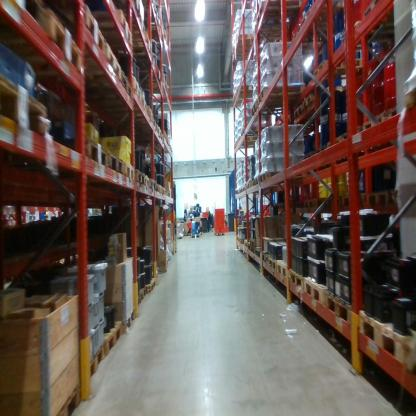pallet: (4, 67, 65, 145), (34, 8, 83, 72), (53, 2, 106, 53), (63, 39, 123, 83), (359, 305, 402, 366), (96, 10, 137, 55), (77, 71, 133, 100), (313, 58, 373, 82), (324, 294, 370, 325), (250, 18, 298, 46), (257, 82, 308, 107), (254, 0, 302, 26), (49, 389, 91, 416), (82, 135, 111, 174), (361, 2, 398, 32), (101, 316, 126, 358), (388, 91, 415, 124), (298, 4, 338, 26), (86, 347, 107, 382), (363, 108, 388, 137), (294, 26, 329, 46), (304, 278, 331, 303), (251, 98, 299, 112), (340, 186, 365, 210), (257, 167, 288, 185), (121, 307, 138, 338), (109, 145, 126, 175), (362, 189, 388, 208), (341, 123, 363, 145), (290, 267, 307, 292), (233, 31, 255, 49), (127, 78, 143, 102), (135, 33, 152, 55), (234, 84, 261, 97), (277, 254, 291, 279), (302, 93, 321, 111), (149, 26, 168, 44), (236, 134, 262, 147), (242, 123, 266, 136), (130, 168, 146, 187), (326, 132, 341, 152), (148, 82, 171, 95), (328, 191, 344, 209), (124, 159, 136, 183), (231, 48, 252, 61), (142, 132, 165, 143), (151, 175, 162, 195), (147, 277, 157, 299), (231, 94, 250, 105), (268, 254, 280, 270), (303, 192, 315, 208), (154, 143, 173, 153), (148, 174, 157, 193), (140, 95, 148, 116), (140, 174, 151, 189), (315, 196, 328, 208), (262, 249, 271, 266), (293, 104, 302, 120), (147, 107, 155, 125), (140, 281, 146, 303), (133, 292, 140, 309), (153, 123, 161, 137), (255, 246, 264, 258), (245, 179, 252, 194), (253, 174, 260, 189), (191, 231, 202, 240), (250, 238, 258, 248), (247, 241, 253, 253), (297, 200, 305, 209), (282, 201, 290, 209), (244, 239, 250, 249), (177, 234, 185, 241), (239, 237, 246, 244), (242, 183, 248, 191), (251, 246, 256, 255), (162, 186, 167, 195), (239, 183, 243, 194), (276, 202, 283, 208), (234, 187, 239, 195), (216, 231, 224, 236), (186, 231, 192, 237), (236, 235, 239, 241)
